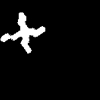single_crochet: (1, 13, 44, 52)
